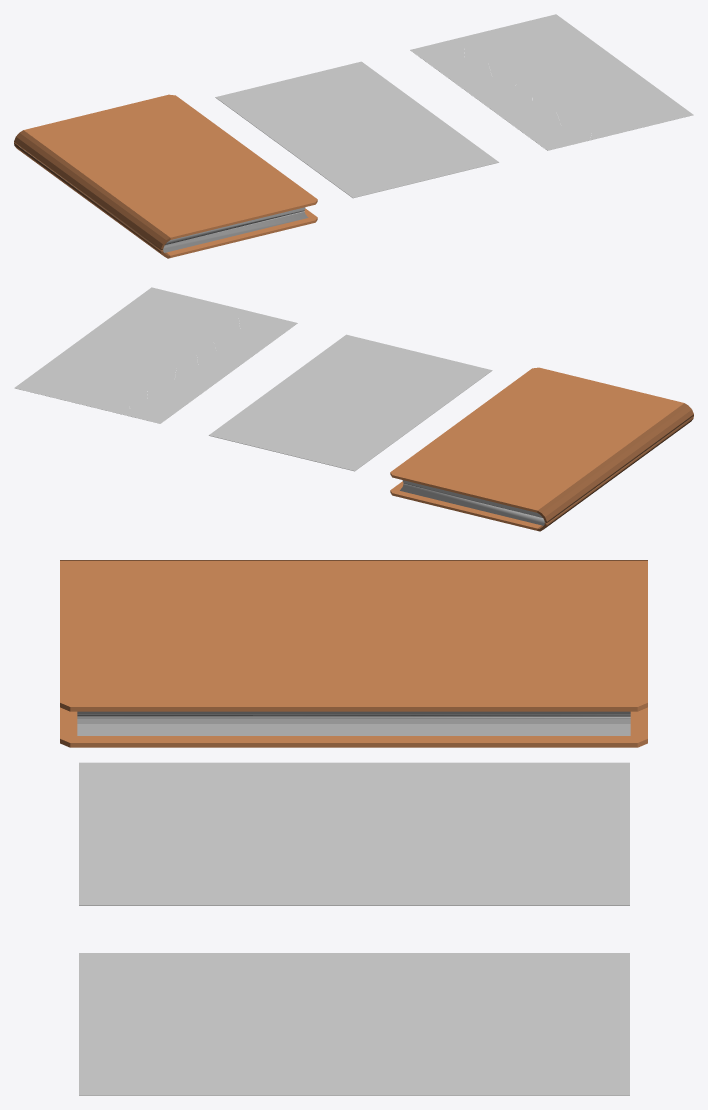
File: Diary1.fbx
3 views of the same model, one above another, from view 1: azimuth 30°, elevation 25°; view 2: azimuth 150°, elevation 25°; view 3: azimuth 270°, elevation 25° (orthographic). The views are drawn at different scales.
Visible parts, largest first — view 1: Pages.001, Cube, Cube.002, Cube.001, Pages; view 2: Pages.001, Cube, Cube.002, Cube.001, Pages; view 3: Pages.001, Cube, Cube.002, Cube.001, Pages.
Part boxes in pixels (left/top/right/bottom): Pages.001: left=14, top=94, right=317, bottom=249; Cube: left=215, top=61, right=498, bottom=198; Cube.002: left=436, top=14, right=693, bottom=140; Cube.001: left=410, top=43, right=591, bottom=150; Pages: left=14, top=143, right=317, bottom=258; Pages.001: left=390, top=367, right=693, bottom=522; Cube: left=209, top=334, right=492, bottom=471; Cube.002: left=14, top=287, right=254, bottom=417; Cube.001: left=128, top=312, right=297, bottom=423; Pages: left=390, top=416, right=693, bottom=531; Pages.001: left=60, top=560, right=647, bottom=716; Cube: left=79, top=762, right=629, bottom=905; Cube.002: left=79, top=978, right=629, bottom=1095; Cube.001: left=79, top=953, right=629, bottom=1003; Pages: left=60, top=707, right=647, bottom=747.
Size of the model in its own units: 718 by 26.03 by 340.
